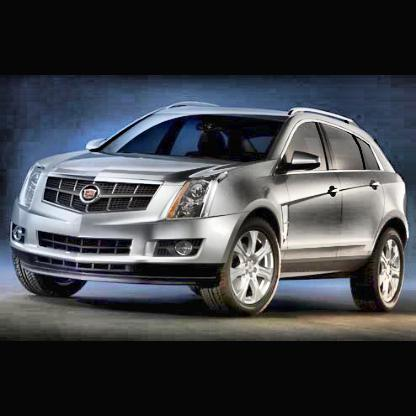Cadillac SRX SUV 2012: (10, 99, 413, 323)
